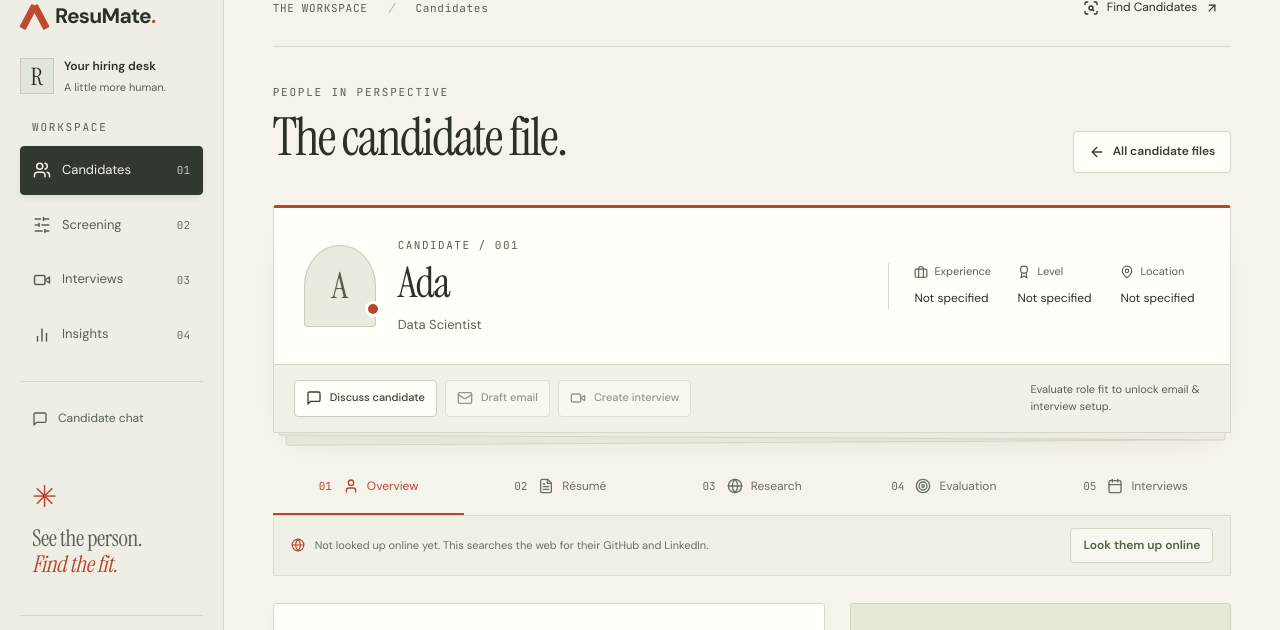
Test case: the chat › is put back when the file opens again, though nobody was looked up
Click the button "Discuss candidate" at (365, 398), box [294,380,437,417]
(page scrolled)
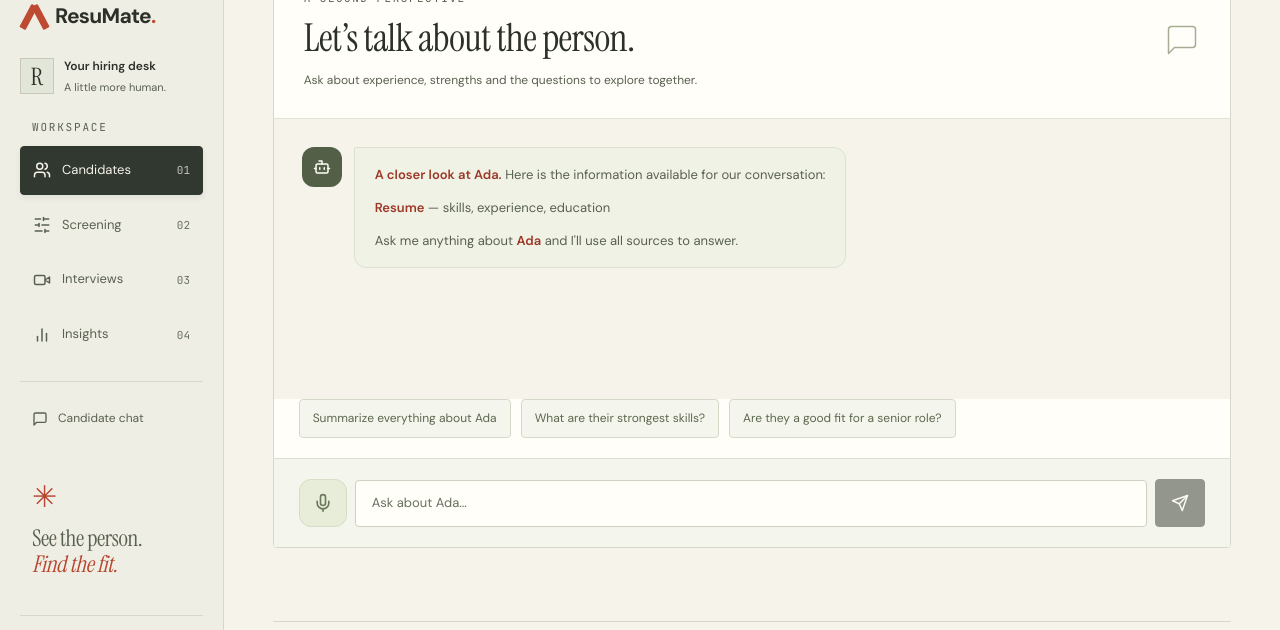
Type "What does Ada build?" into the field labelled "Ask about Ada" at (751, 503), box [355,480,1147,527]
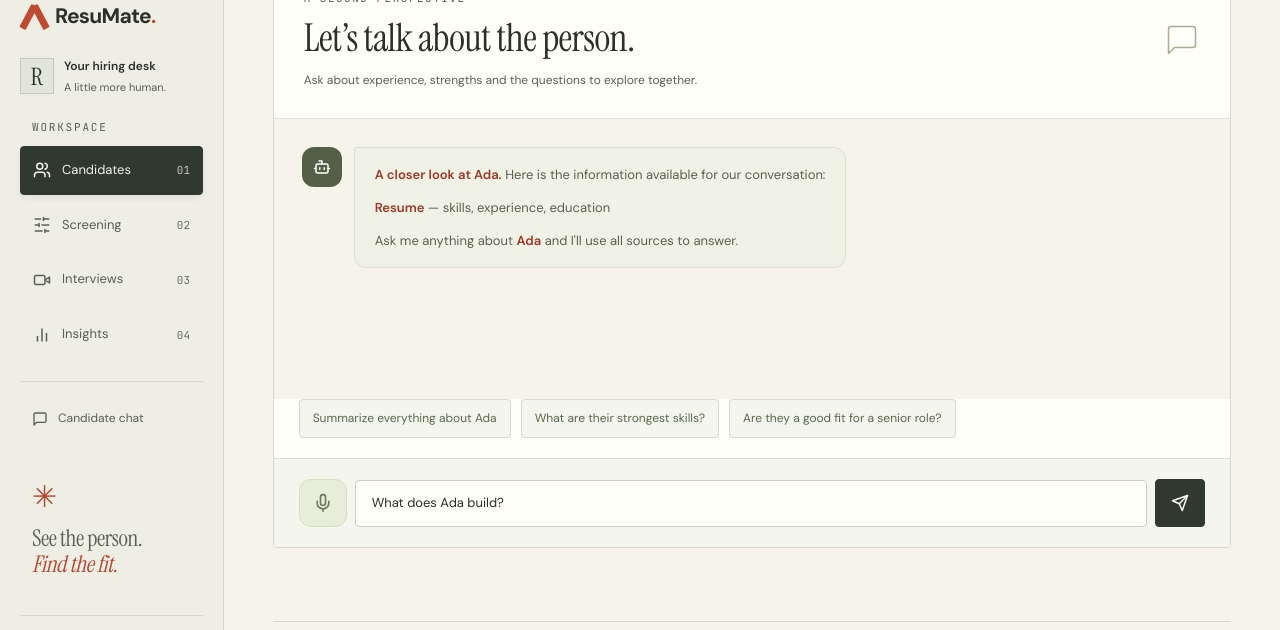
Click the button named "Send" at (1180, 503), box [1155,479,1205,527]
(page scrolled)
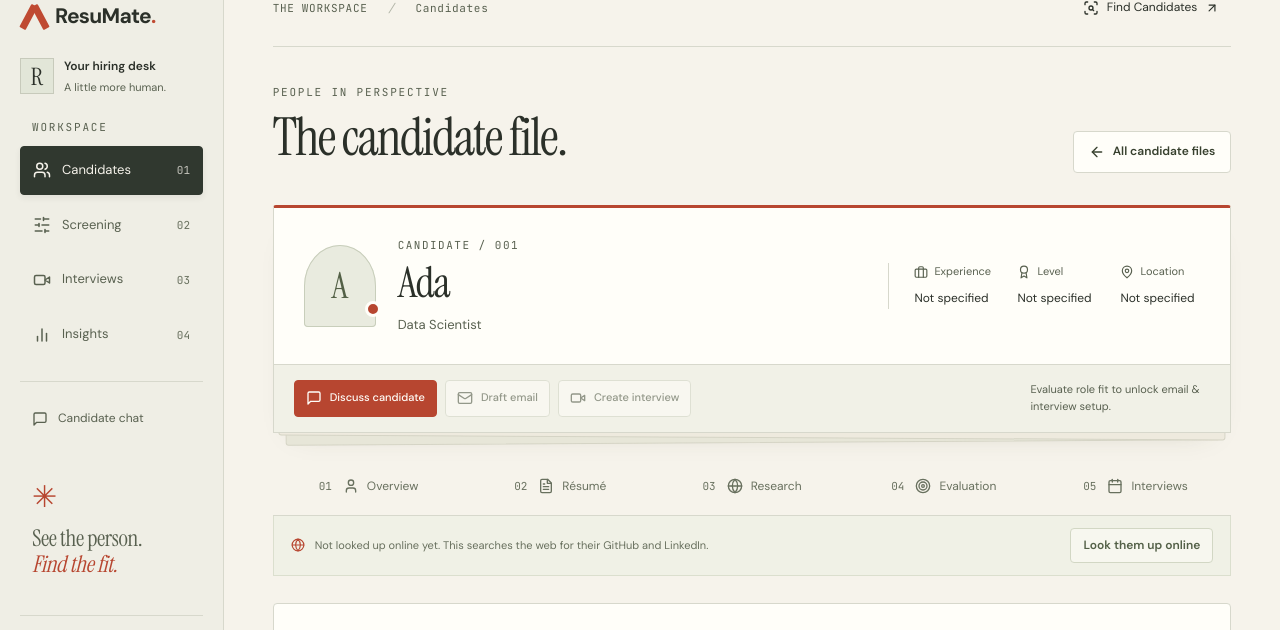
Click the button "All candidate files" at (1152, 152), box [1073,131,1231,173]
(page scrolled)
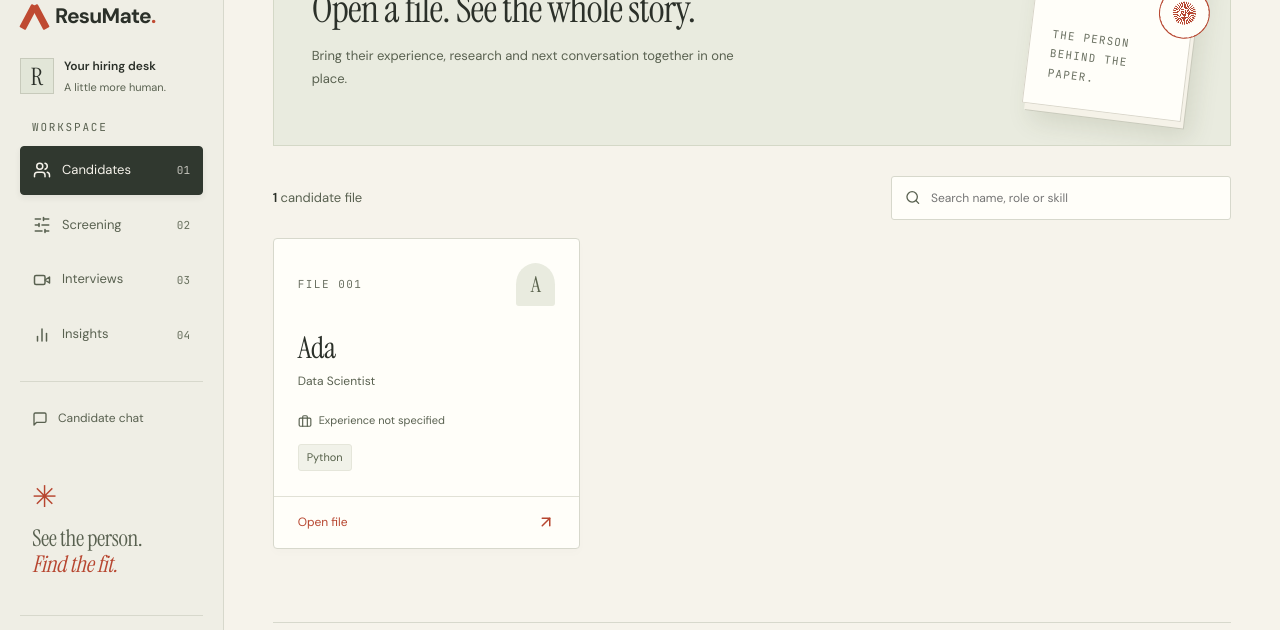
Click the button with aria-label "Open file for Ada" at (323, 522), box [274,496,579,548]
(page scrolled)
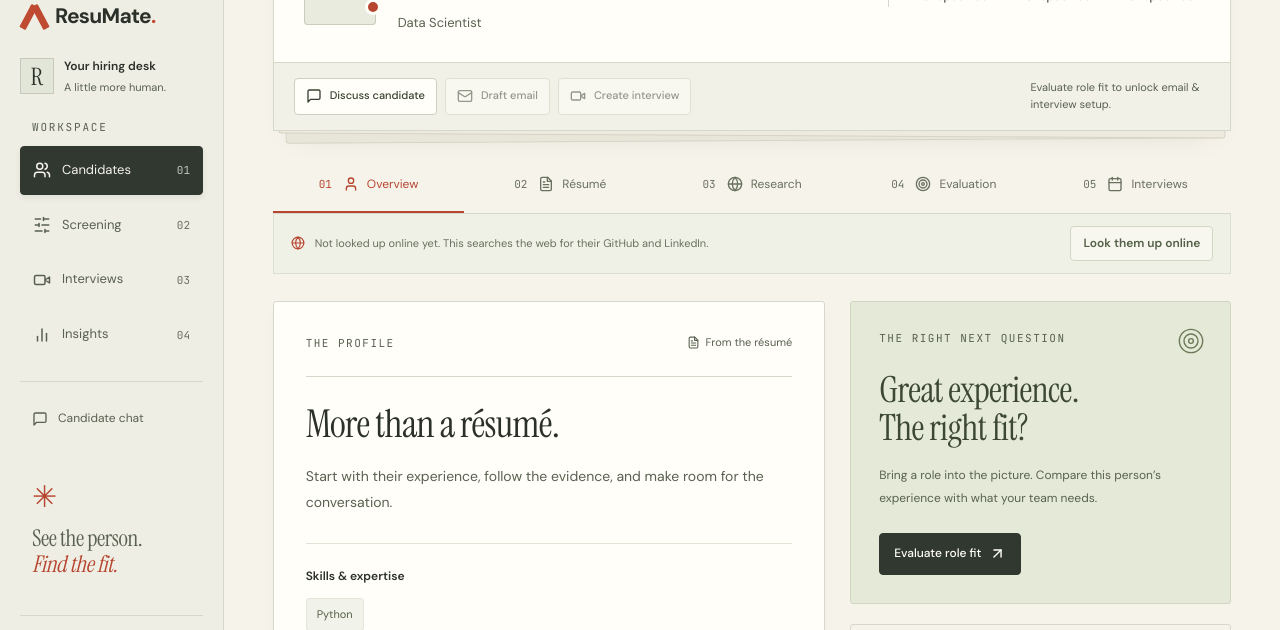
Click the button "Discuss candidate" at (365, 96), box [294,78,437,115]
(page scrolled)
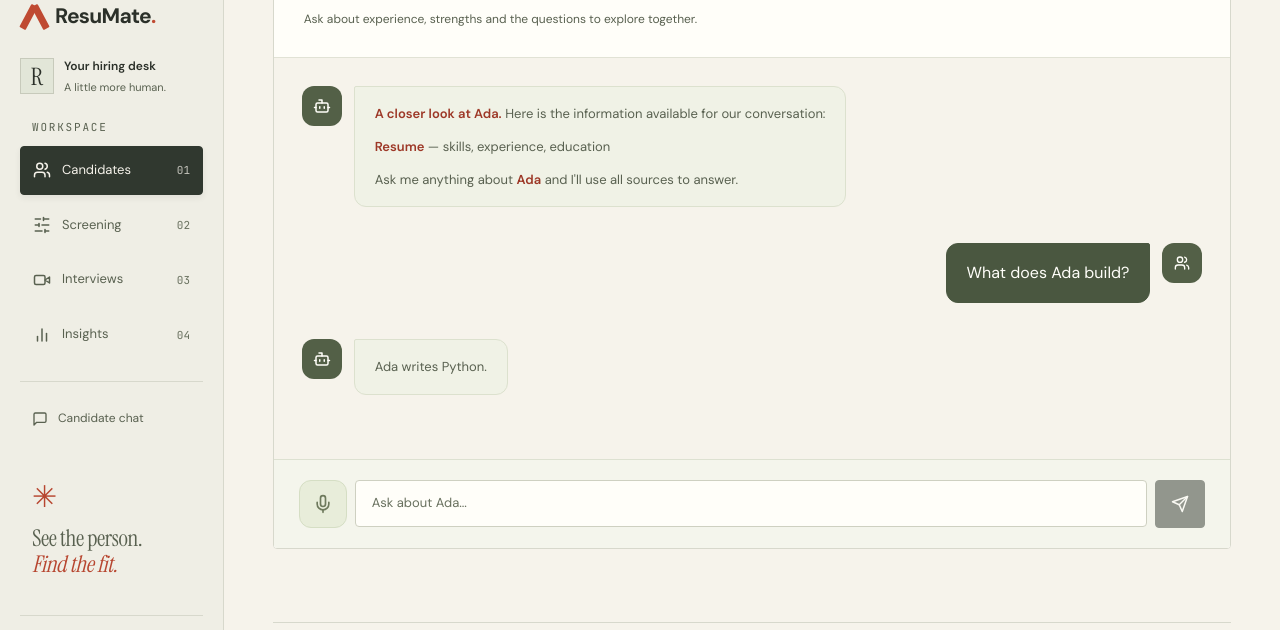
Expected: the text "What does Ada build?" is shown, [967,260,1129,286]
Expected: the text "Ada writes Python." is shown, [375,356,487,378]
